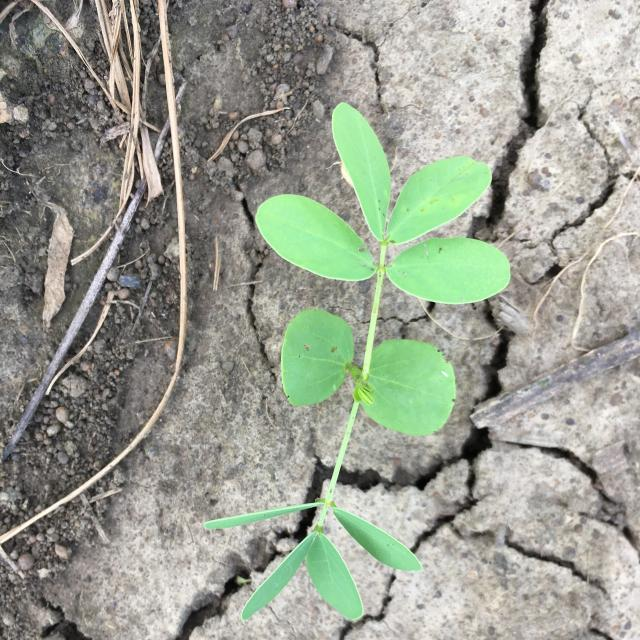Sicklepod: (204, 103, 511, 620)
